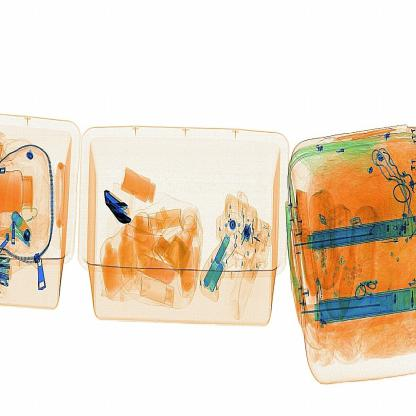pliers: (100, 184, 132, 231)
